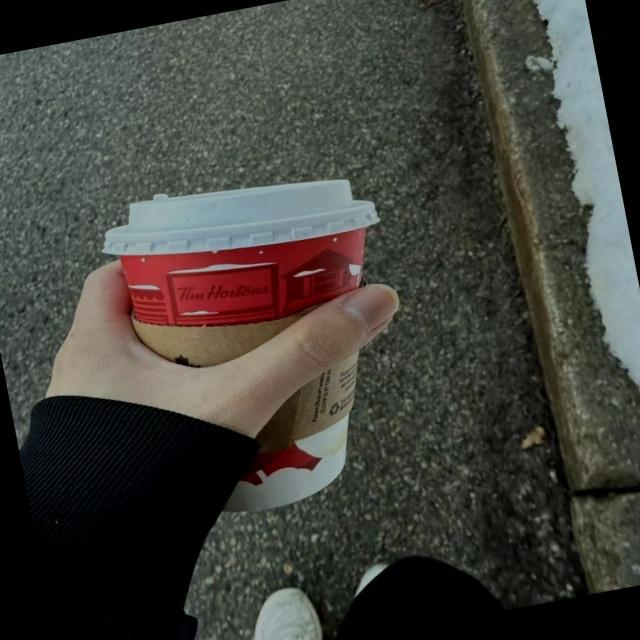Timmies: (92, 147, 451, 541)
